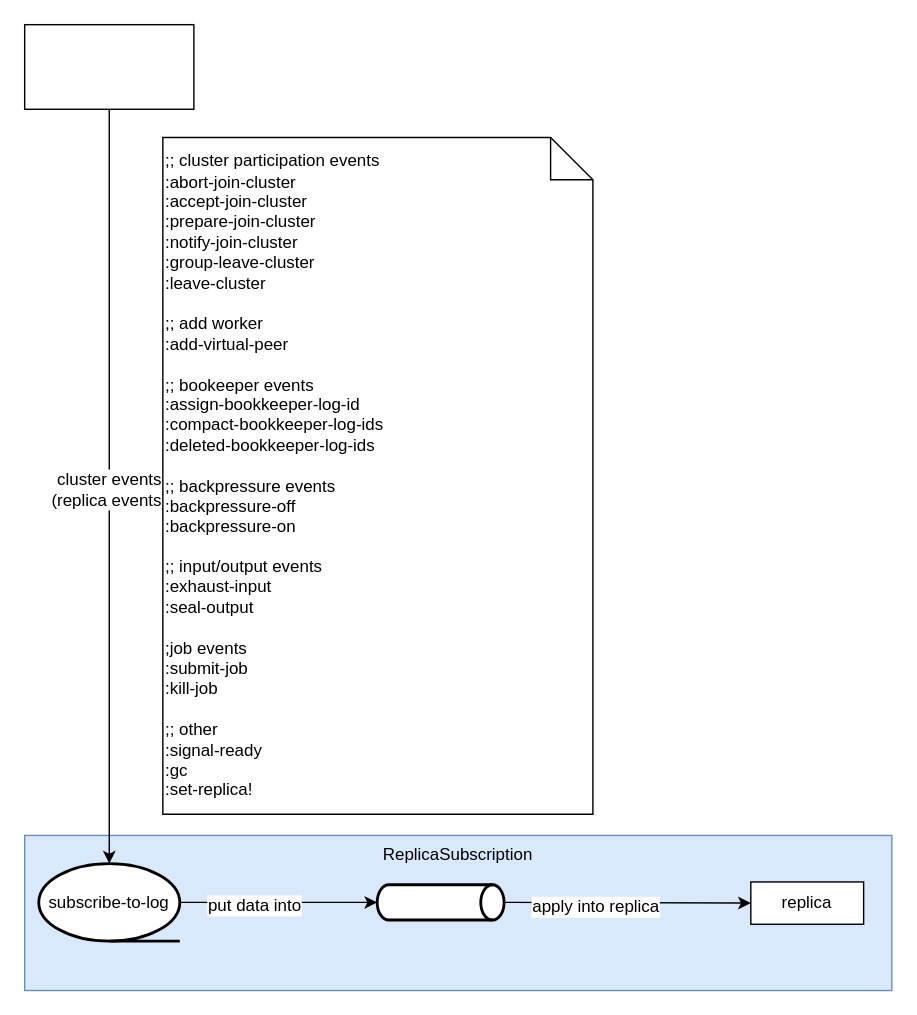
Some shapes in this 917 by 1015 pixel diagram are drawn without their labels. Each missing label, with the centre of its shape:
"inbox-ch" goes at point (440, 902).
"ZooKeeper" goes at point (108, 66).
